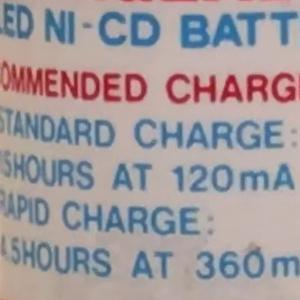NI-CD: (35, 2, 170, 54)
